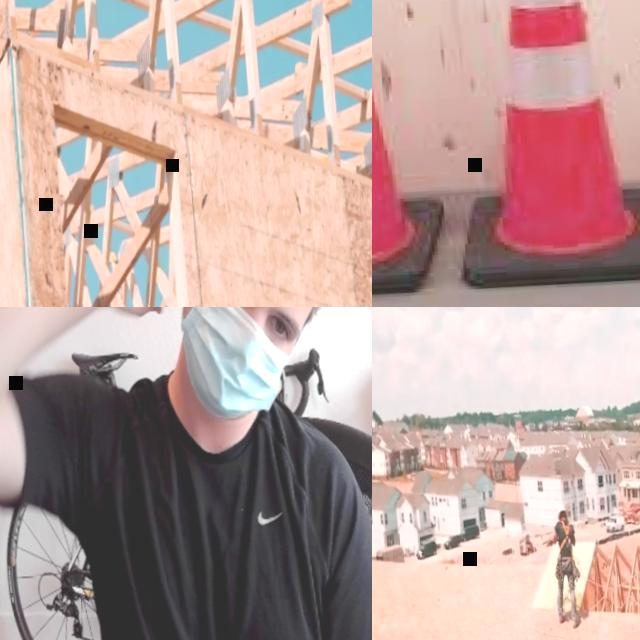helmet: (557, 506, 567, 520)
machinery: (624, 504, 640, 526)
mask: (174, 307, 299, 421)
no_vest: (93, 388, 355, 640), (556, 522, 572, 558)
person: (25, 307, 372, 640), (549, 504, 582, 630)
safety_cone: (428, 0, 640, 299), (372, 0, 454, 307)
vehicle: (415, 541, 437, 561), (604, 514, 626, 534), (460, 525, 480, 542), (443, 535, 461, 551)
